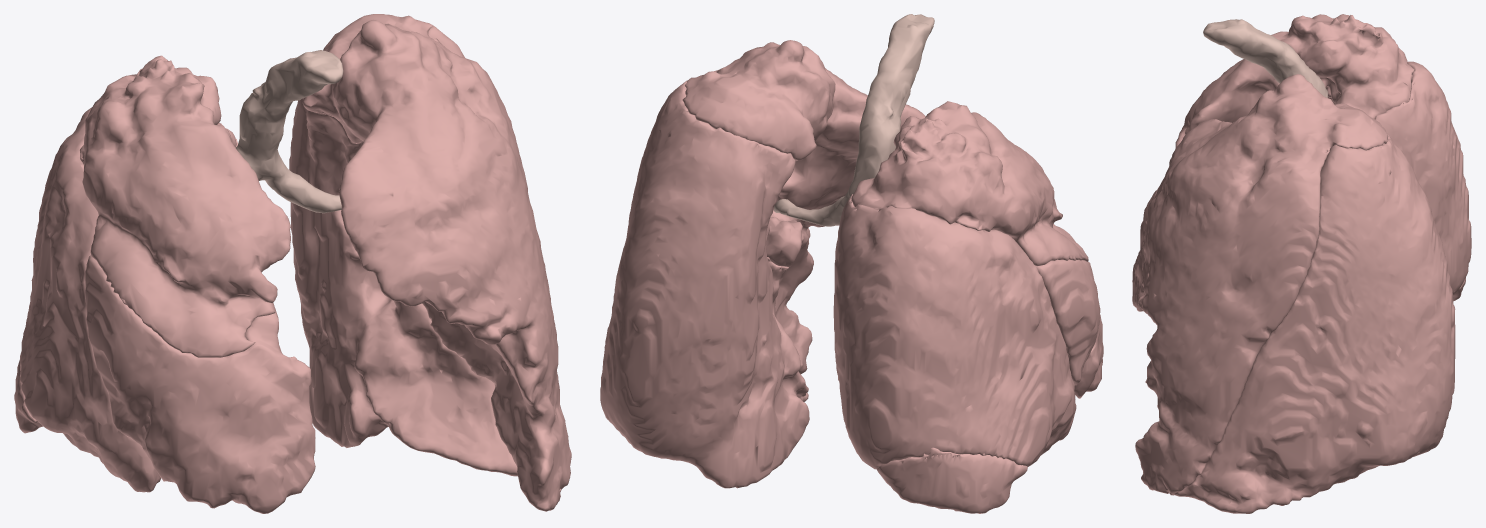
File: tsd_s0327_older_adult_male.respiratory.LOD1.glb
3 views of the same model, side by side, from view 1: azimuth 30°, elevation 25°; view 2: azimuth 150°, elevation 25°; view 3: azimuth 270°, elevation 25° (orthographic). The views are drawn at different scales.
Visible parts, largest first — view 1: TSD_S0327.OLDER_ADULT.MALE.RESPIRATORY.SUPERIOR_LOBE_OF_LEFT, TSD_S0327.OLDER_ADULT.MALE.RESPIRATORY.SUPERIOR_LOBE_OF_RIGH, TSD_S0327.OLDER_ADULT.MALE.RESPIRATORY.INFERIOR_LOBE_OF_LEFT, TSD_S0327.OLDER_ADULT.MALE.RESPIRATORY.MIDDLE_LOBE_OF_RIGHT_, TSD_S0327.OLDER_ADULT.MALE.RESPIRATORY.INFERIOR_LOBE_OF_RIGH, TSD_S0327.OLDER_ADULT.MALE.RESPIRATORY.TRACHEA; view 2: TSD_S0327.OLDER_ADULT.MALE.RESPIRATORY.INFERIOR_LOBE_OF_LEFT, TSD_S0327.OLDER_ADULT.MALE.RESPIRATORY.INFERIOR_LOBE_OF_RIGH, TSD_S0327.OLDER_ADULT.MALE.RESPIRATORY.SUPERIOR_LOBE_OF_LEFT, TSD_S0327.OLDER_ADULT.MALE.RESPIRATORY.SUPERIOR_LOBE_OF_RIGH, TSD_S0327.OLDER_ADULT.MALE.RESPIRATORY.MIDDLE_LOBE_OF_RIGHT_, TSD_S0327.OLDER_ADULT.MALE.RESPIRATORY.TRACHEA; view 3: TSD_S0327.OLDER_ADULT.MALE.RESPIRATORY.INFERIOR_LOBE_OF_LEFT, TSD_S0327.OLDER_ADULT.MALE.RESPIRATORY.SUPERIOR_LOBE_OF_LEFT, TSD_S0327.OLDER_ADULT.MALE.RESPIRATORY.SUPERIOR_LOBE_OF_RIGH, TSD_S0327.OLDER_ADULT.MALE.RESPIRATORY.INFERIOR_LOBE_OF_RIGH, TSD_S0327.OLDER_ADULT.MALE.RESPIRATORY.TRACHEA, TSD_S0327.OLDER_ADULT.MALE.RESPIRATORY.MIDDLE_LOBE_OF_RIGHT_.
Boxes of the visible parts, x1,y1,x2,y2 form: TSD_S0327.OLDER_ADULT.MALE.RESPIRATORY.SUPERIOR_LOBE_OF_LEFT: [302, 14, 571, 511]; TSD_S0327.OLDER_ADULT.MALE.RESPIRATORY.SUPERIOR_LOBE_OF_RIGH: [80, 55, 290, 357]; TSD_S0327.OLDER_ADULT.MALE.RESPIRATORY.INFERIOR_LOBE_OF_LEFT: [289, 25, 570, 491]; TSD_S0327.OLDER_ADULT.MALE.RESPIRATORY.MIDDLE_LOBE_OF_RIGHT_: [14, 255, 315, 513]; TSD_S0327.OLDER_ADULT.MALE.RESPIRATORY.INFERIOR_LOBE_OF_RIGH: [20, 107, 282, 492]; TSD_S0327.OLDER_ADULT.MALE.RESPIRATORY.TRACHEA: [236, 50, 343, 213]; TSD_S0327.OLDER_ADULT.MALE.RESPIRATORY.INFERIOR_LOBE_OF_LEFT: [600, 80, 809, 488]; TSD_S0327.OLDER_ADULT.MALE.RESPIRATORY.INFERIOR_LOBE_OF_RIGH: [833, 194, 1076, 469]; TSD_S0327.OLDER_ADULT.MALE.RESPIRATORY.SUPERIOR_LOBE_OF_LEFT: [682, 40, 925, 373]; TSD_S0327.OLDER_ADULT.MALE.RESPIRATORY.SUPERIOR_LOBE_OF_RIGH: [851, 101, 1088, 266]; TSD_S0327.OLDER_ADULT.MALE.RESPIRATORY.MIDDLE_LOBE_OF_RIGHT_: [877, 259, 1103, 513]; TSD_S0327.OLDER_ADULT.MALE.RESPIRATORY.TRACHEA: [773, 14, 934, 226]; TSD_S0327.OLDER_ADULT.MALE.RESPIRATORY.INFERIOR_LOBE_OF_LEFT: [1169, 134, 1455, 513]; TSD_S0327.OLDER_ADULT.MALE.RESPIRATORY.SUPERIOR_LOBE_OF_LEFT: [1135, 74, 1388, 493]; TSD_S0327.OLDER_ADULT.MALE.RESPIRATORY.SUPERIOR_LOBE_OF_RIGH: [1175, 14, 1414, 148]; TSD_S0327.OLDER_ADULT.MALE.RESPIRATORY.INFERIOR_LOBE_OF_RIGH: [1375, 61, 1471, 294]; TSD_S0327.OLDER_ADULT.MALE.RESPIRATORY.TRACHEA: [1203, 19, 1327, 97]; TSD_S0327.OLDER_ADULT.MALE.RESPIRATORY.MIDDLE_LOBE_OF_RIGHT_: [1132, 186, 1465, 311].
Size of the model in its own units: 0.2452 by 0.2371 by 0.1857.
